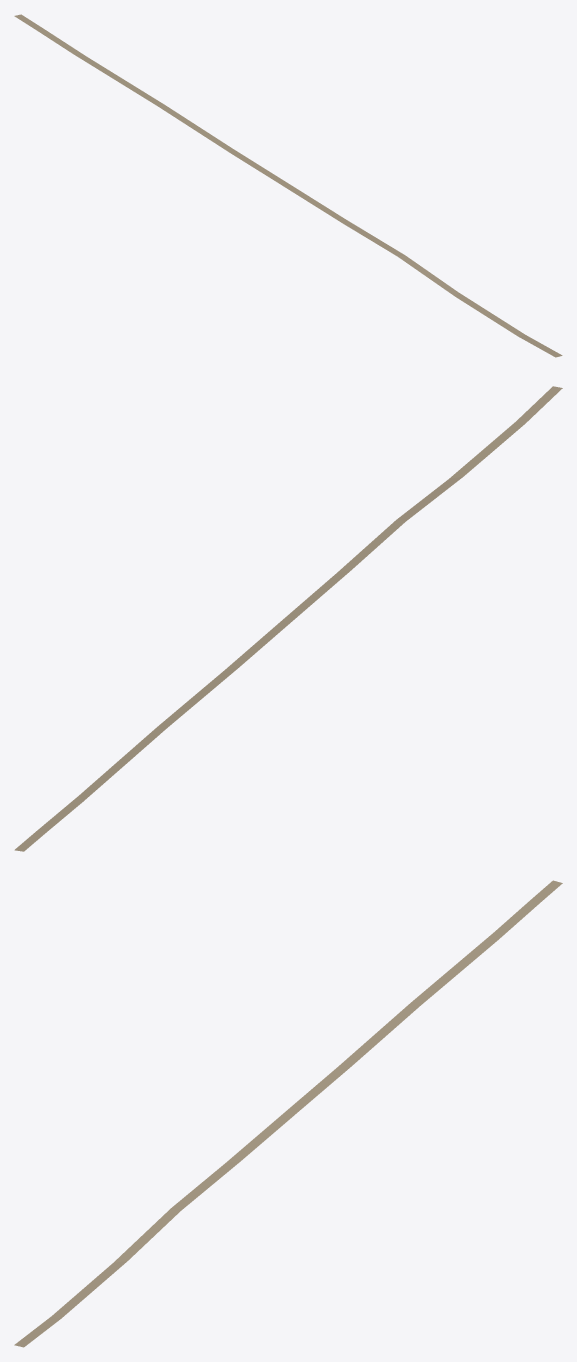
File: farm_2_0_track.glb
The picture shows the model from 3 angles, top to bottom: view 1: azimuth 30°, elevation 25°; view 2: azimuth 150°, elevation 25°; view 3: azimuth 330°, elevation 25°; orthographic projection. The views are drawn at different scales.
Parts seen in each view (by area): view 1: geometry_0; view 2: geometry_0; view 3: geometry_0.
Boxes of the visible parts, x1,y1,x2,y2 form: geometry_0: (14,14,562,357); geometry_0: (14,386,562,851); geometry_0: (14,880,562,1347).
Size of the model in its own units: 27.6 by 1.73 by 361.
